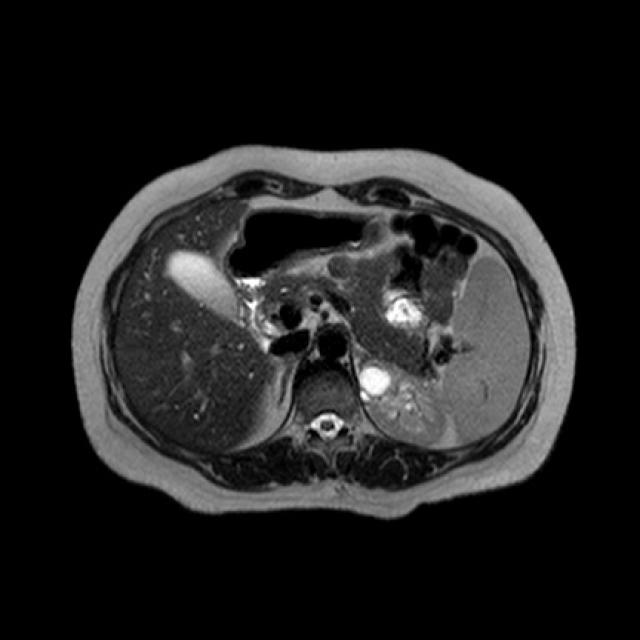sol: (358, 357, 448, 445)
